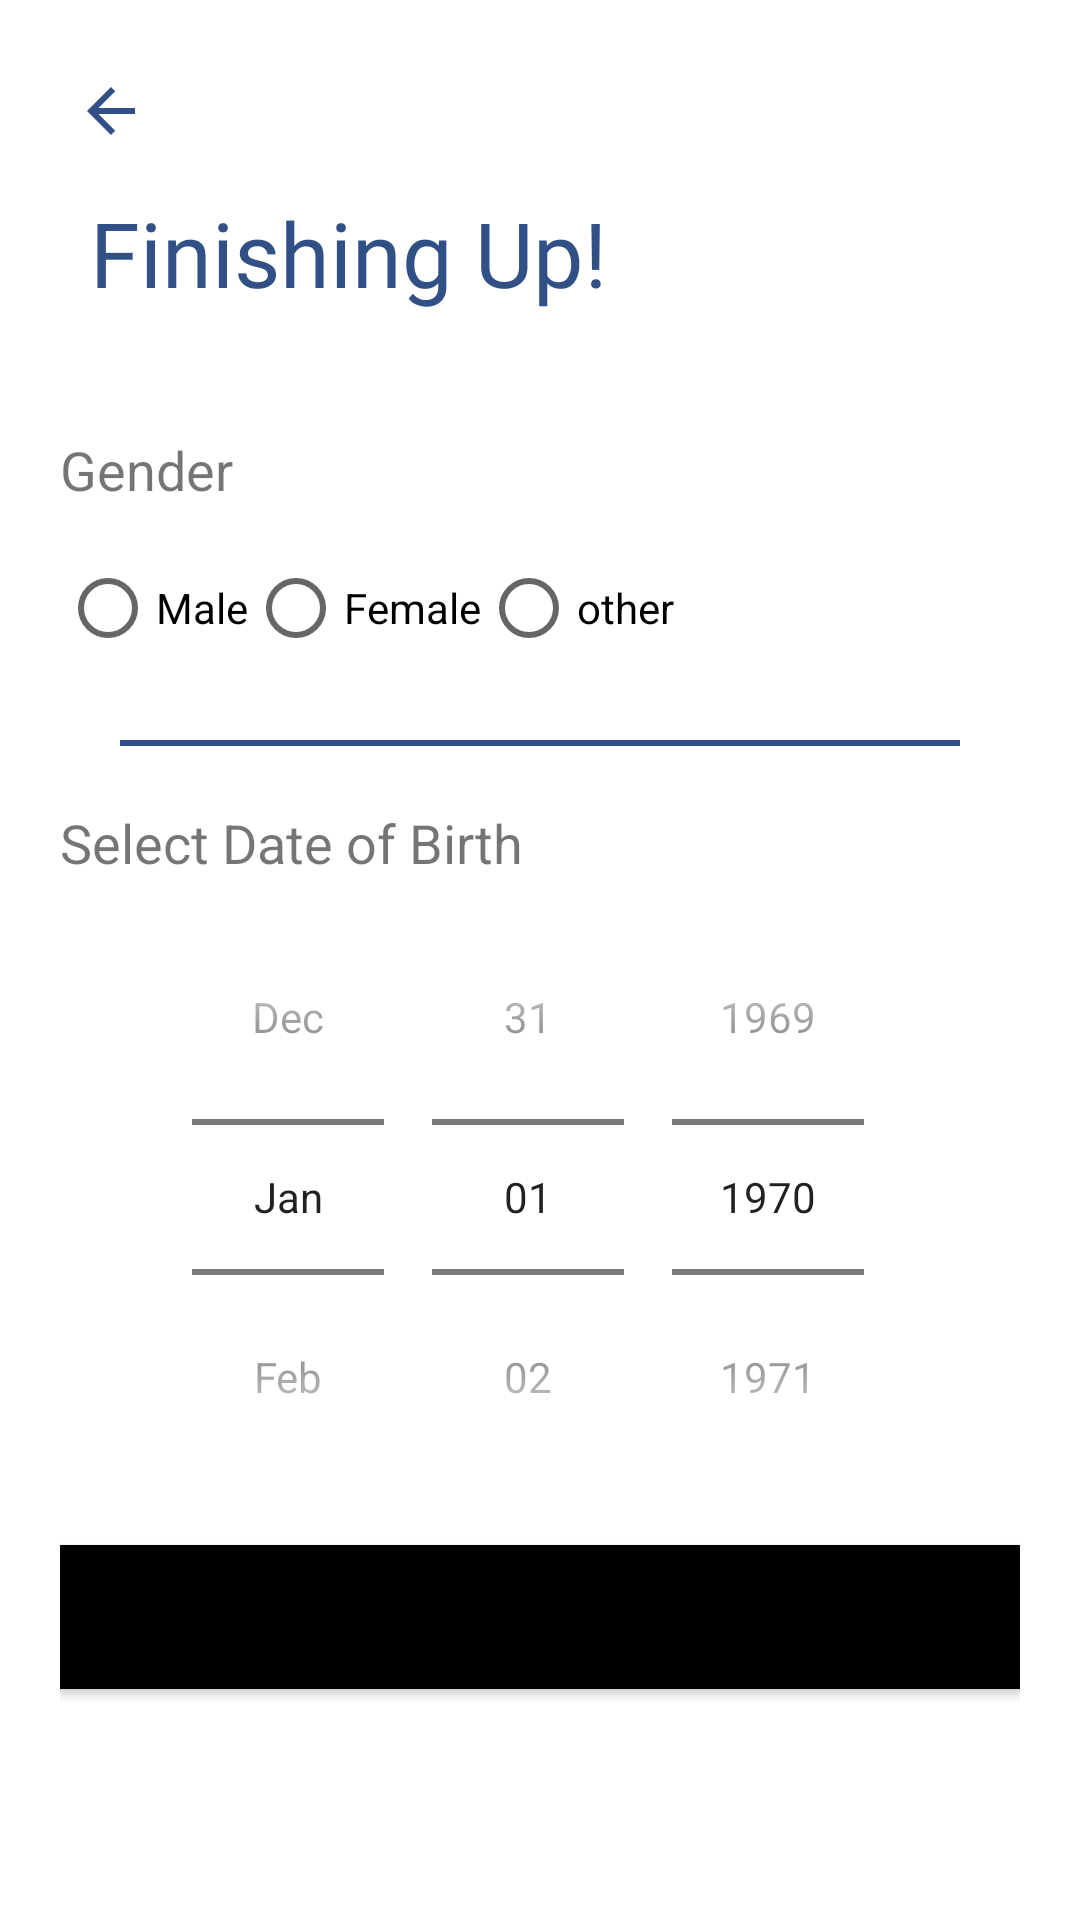

Locate icon controls on the screen. Image size 1080px x 1920px, boxes as (x1, y1, x2, y2).
back: (87, 87, 135, 135)
